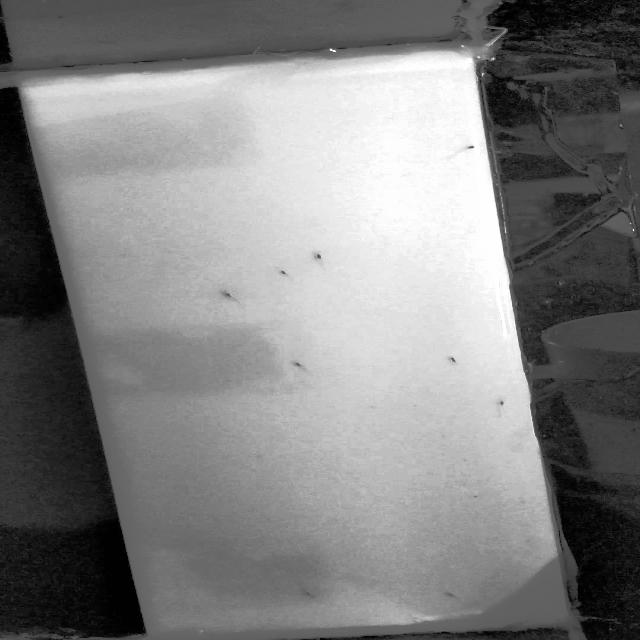shrimp: (433, 351, 468, 370), (214, 288, 248, 304), (280, 357, 312, 372), (296, 588, 336, 600), (270, 266, 294, 282), (491, 392, 508, 412), (437, 589, 463, 602), (307, 250, 334, 262), (456, 142, 478, 152)
